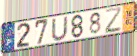2: (17, 22, 32, 49)
7: (34, 18, 49, 47)
8: (70, 13, 85, 40), (89, 11, 102, 35)
U: (51, 15, 69, 42)
Z: (104, 6, 122, 35)
